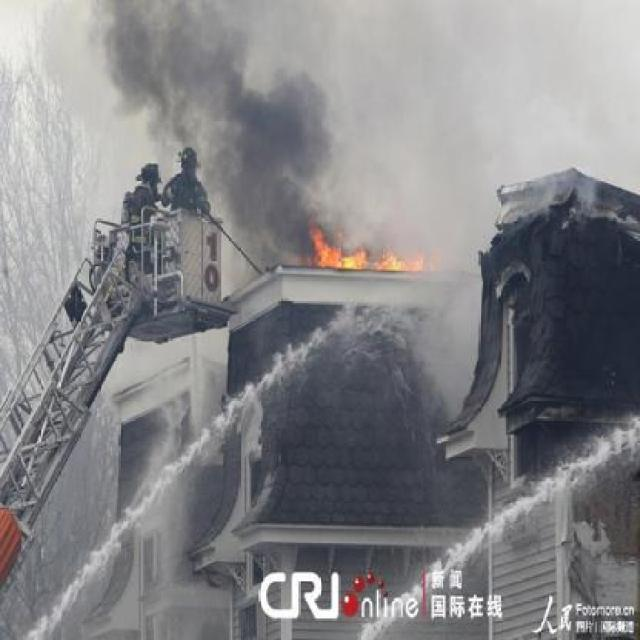Fire: (310, 230, 436, 276)
Smoke: (110, 11, 327, 220)
